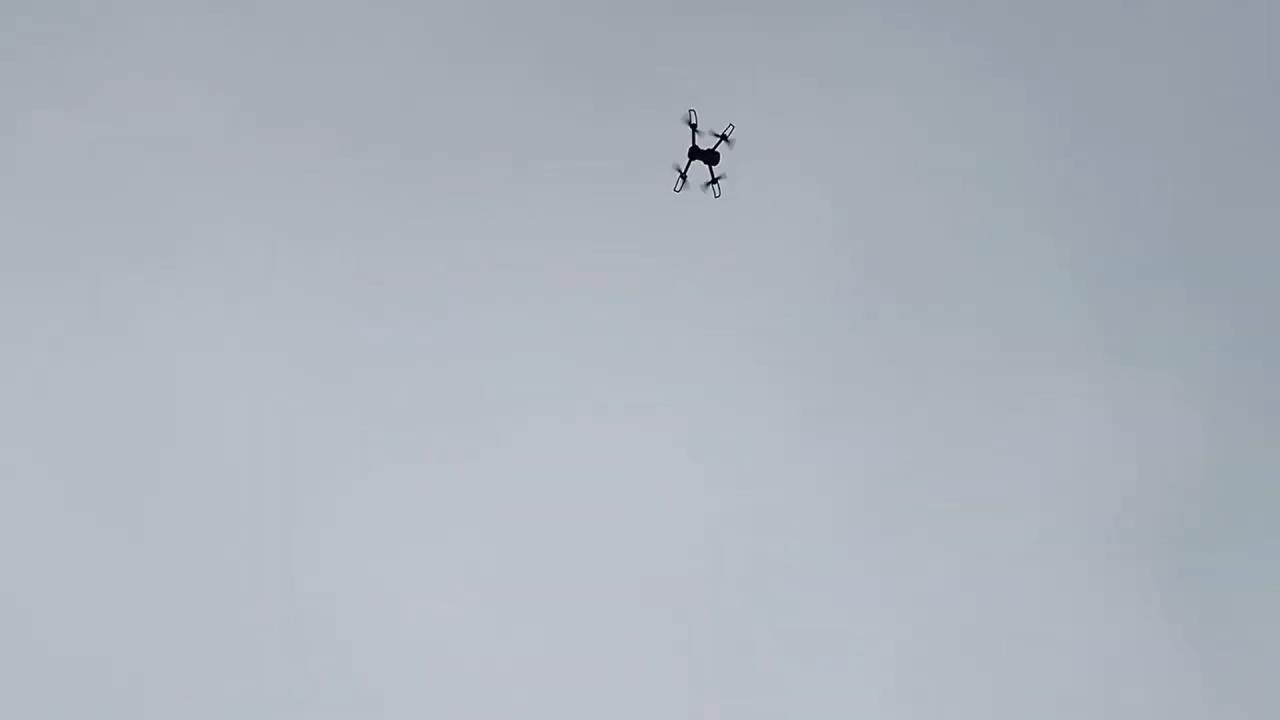Drone: (662, 96, 742, 210)
